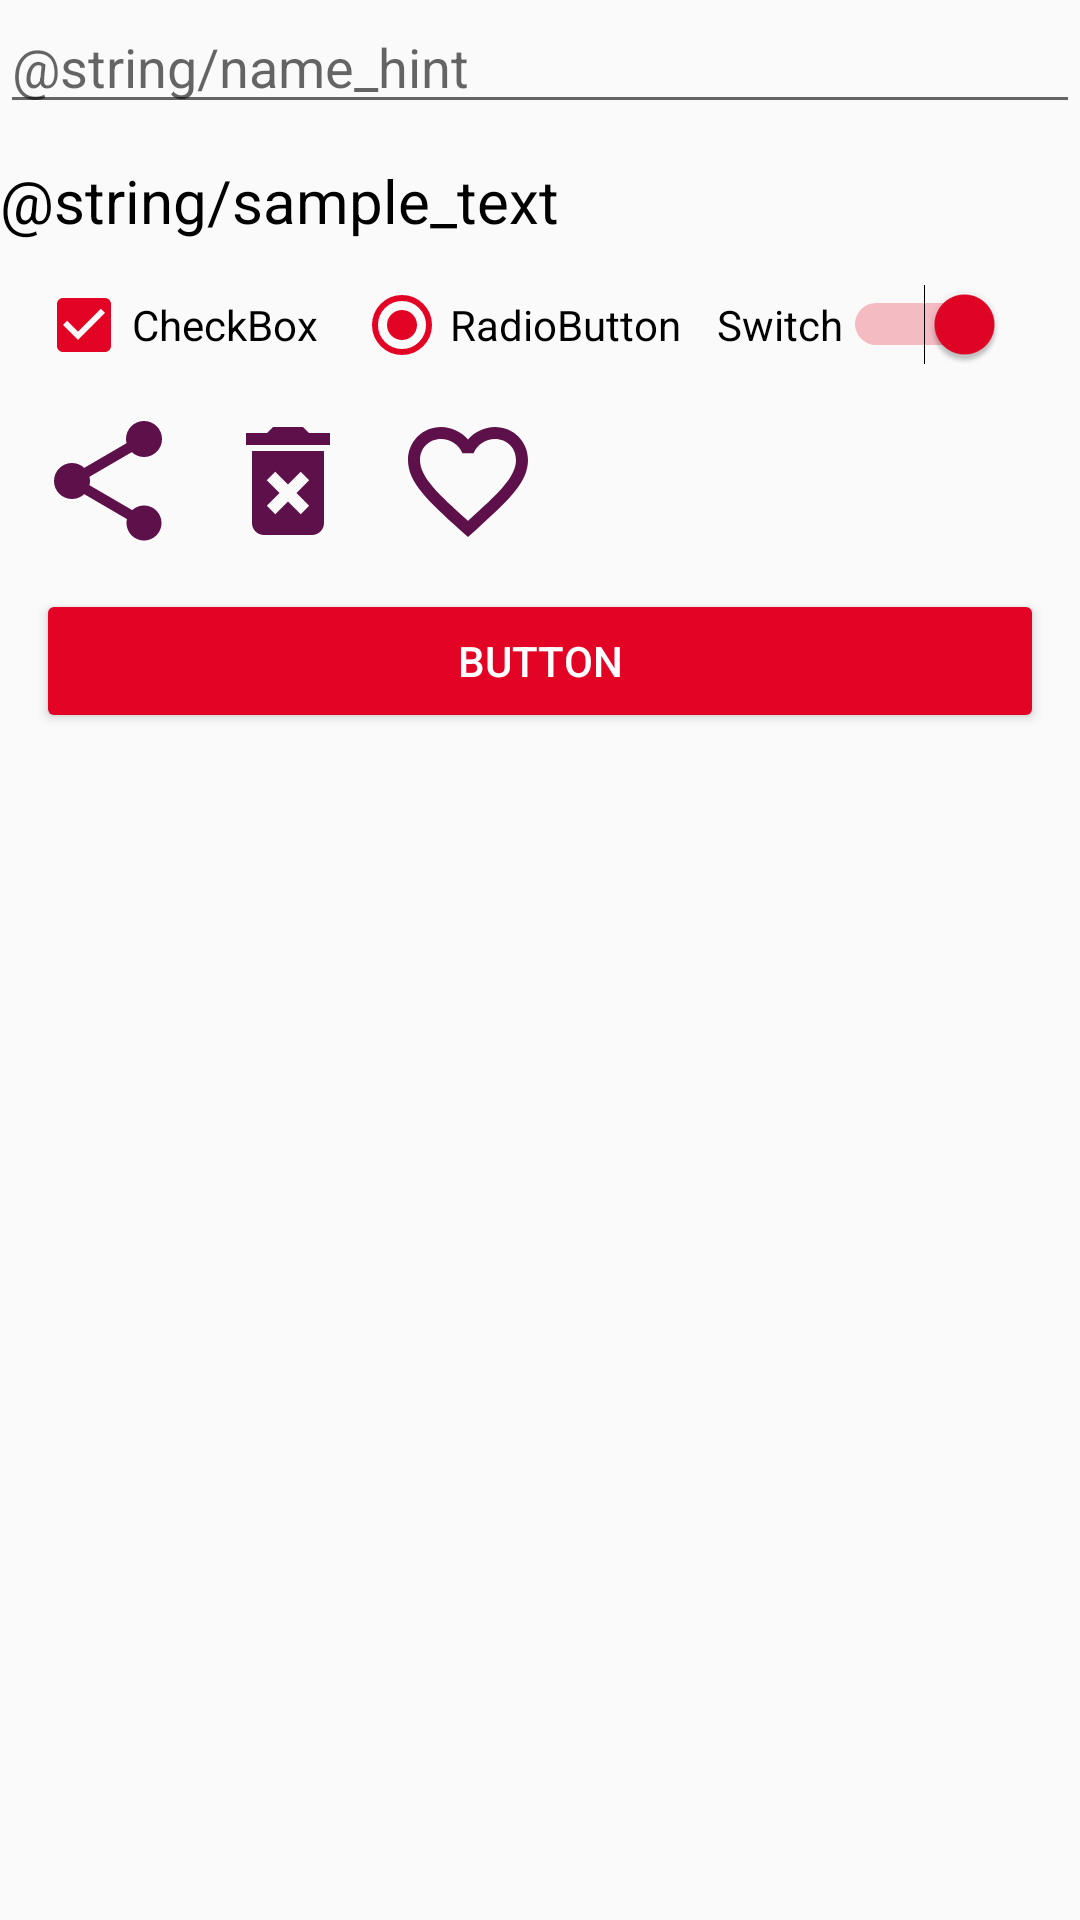

Icon bounding boxes for this 1080w x 1920h phone screenshot, format {"left": x1, "top": y1, "right": x2, "bottom": y2}:
delete forever: {"left": 246, "top": 427, "right": 330, "bottom": 535}
favorite border: {"left": 408, "top": 427, "right": 528, "bottom": 537}
share: {"left": 54, "top": 421, "right": 162, "bottom": 541}
